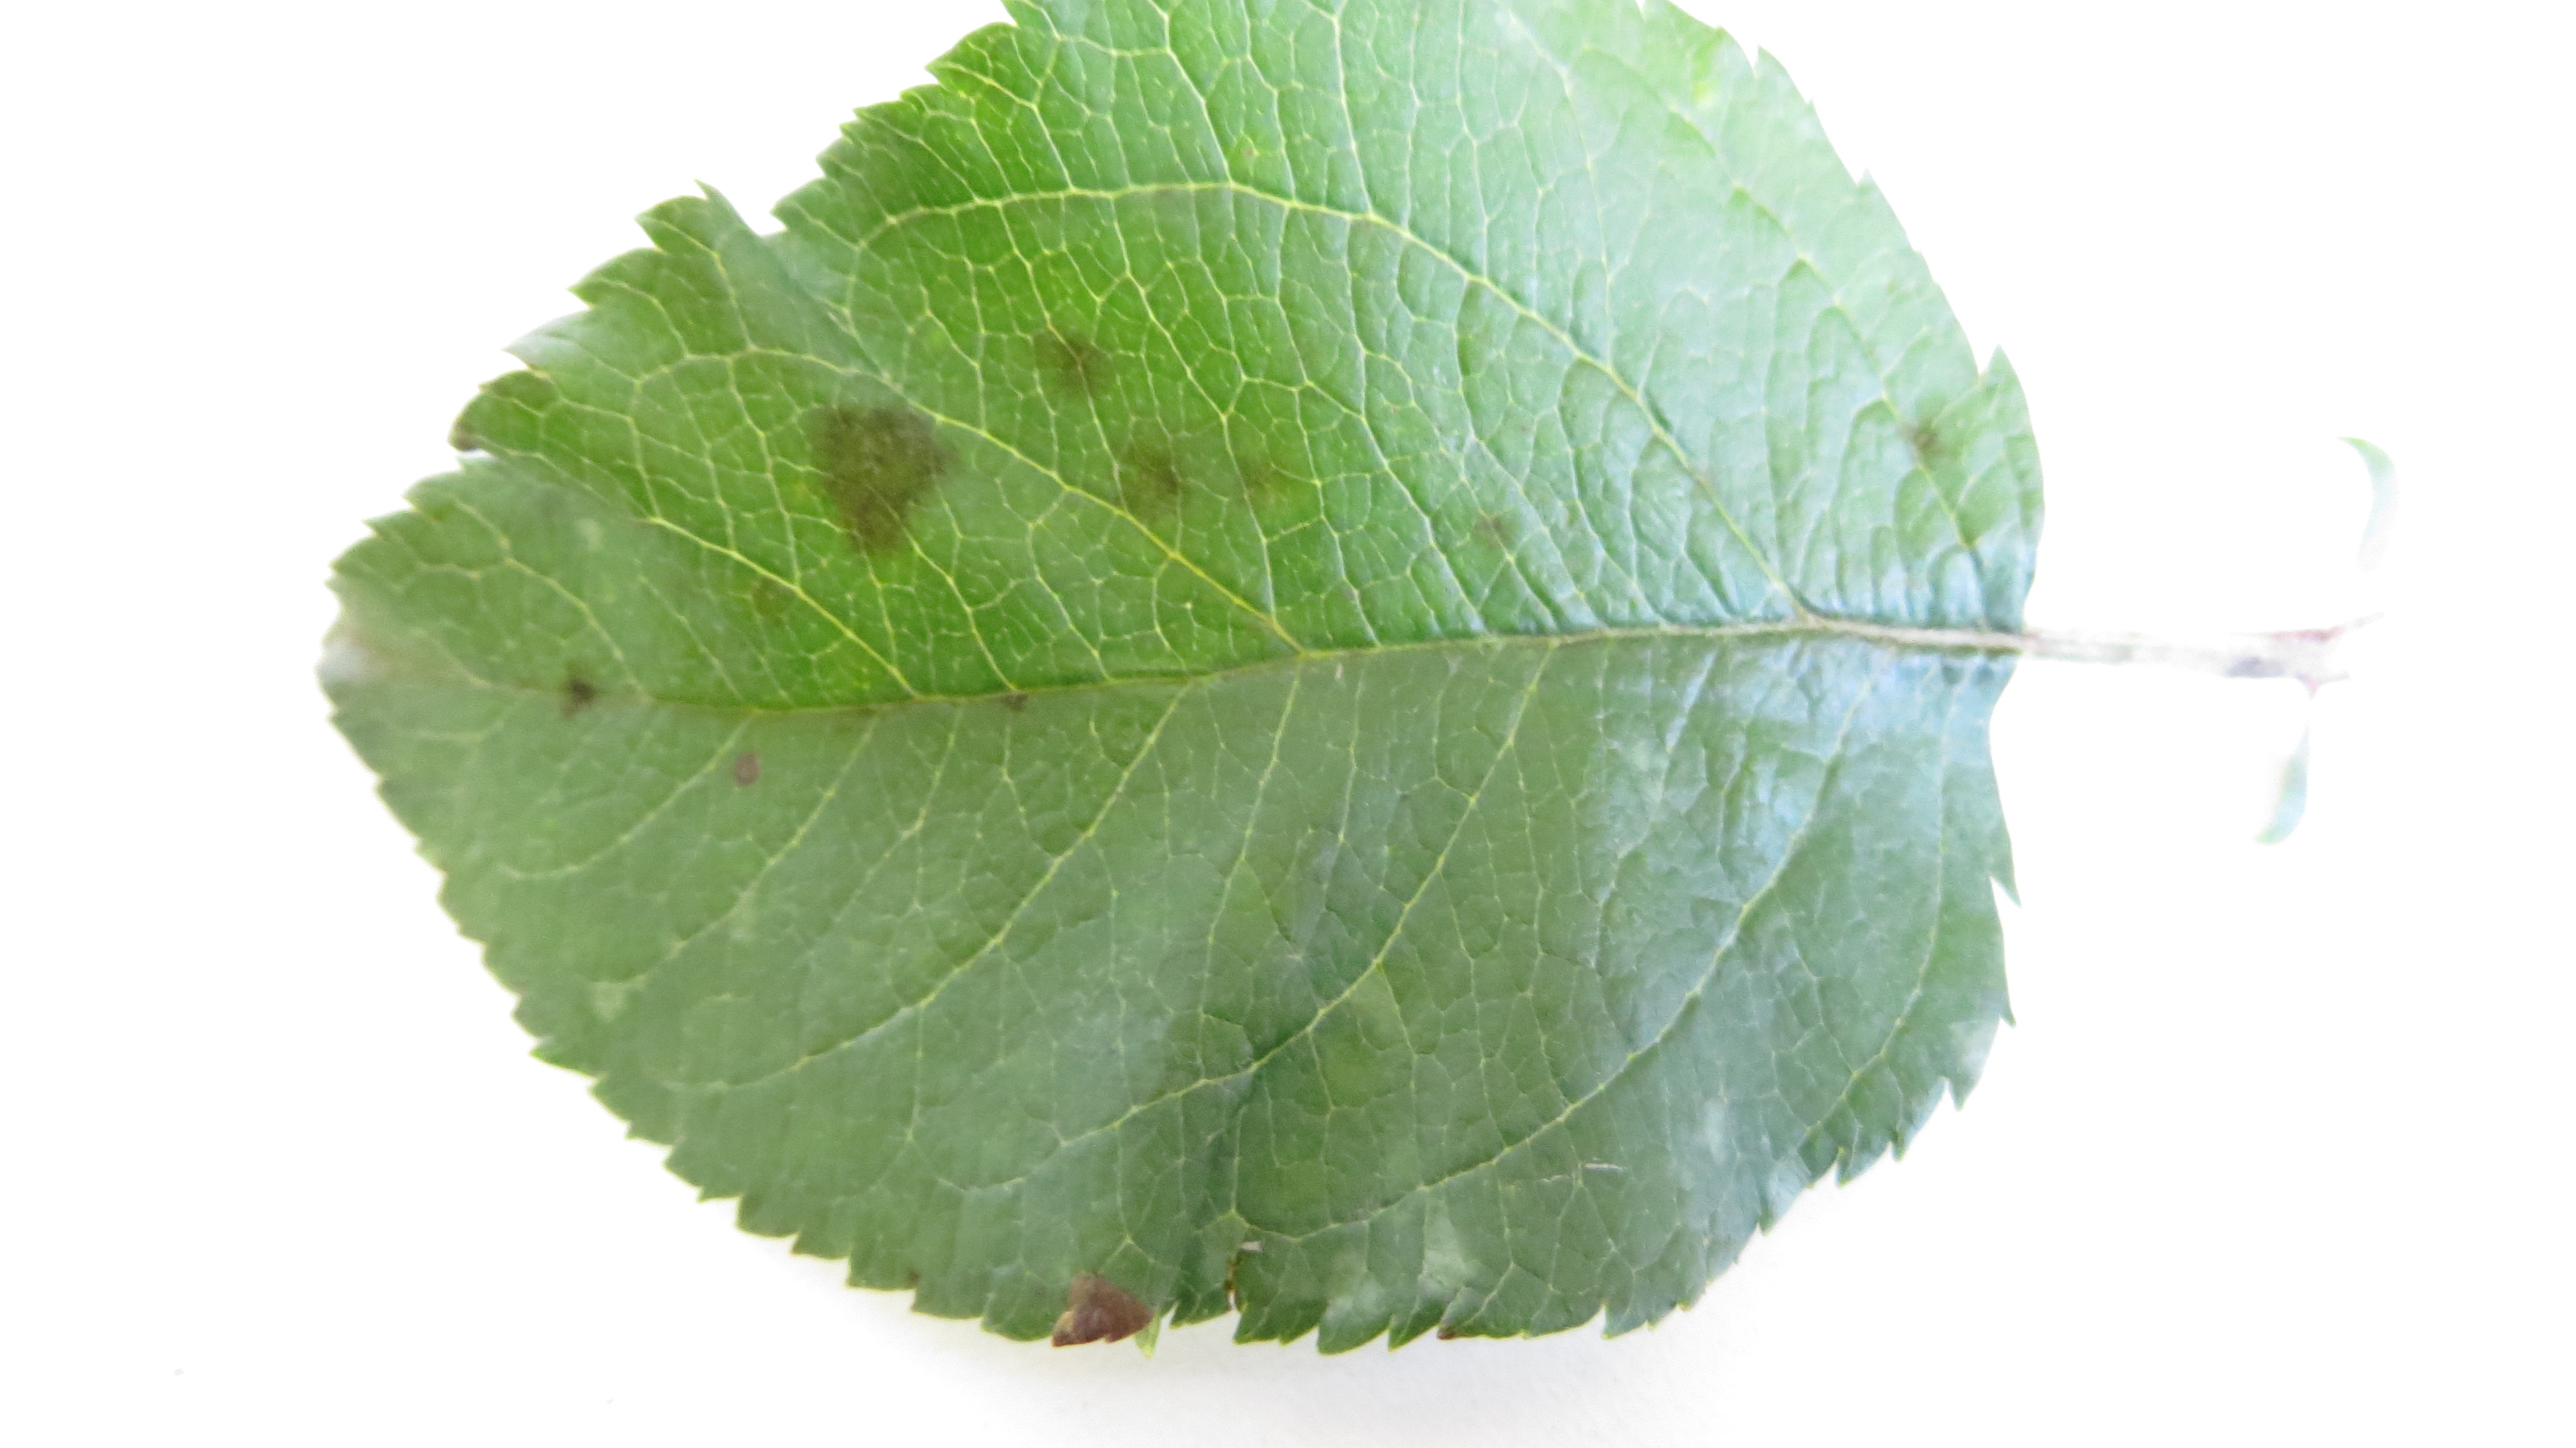sarna: (796, 391, 970, 558), (1037, 1259, 1166, 1361), (1024, 306, 1127, 412), (1108, 430, 1205, 519), (959, 651, 1060, 729), (1224, 434, 1306, 520), (531, 644, 612, 726), (1465, 490, 1536, 566), (720, 733, 786, 811), (1877, 416, 1953, 480)
